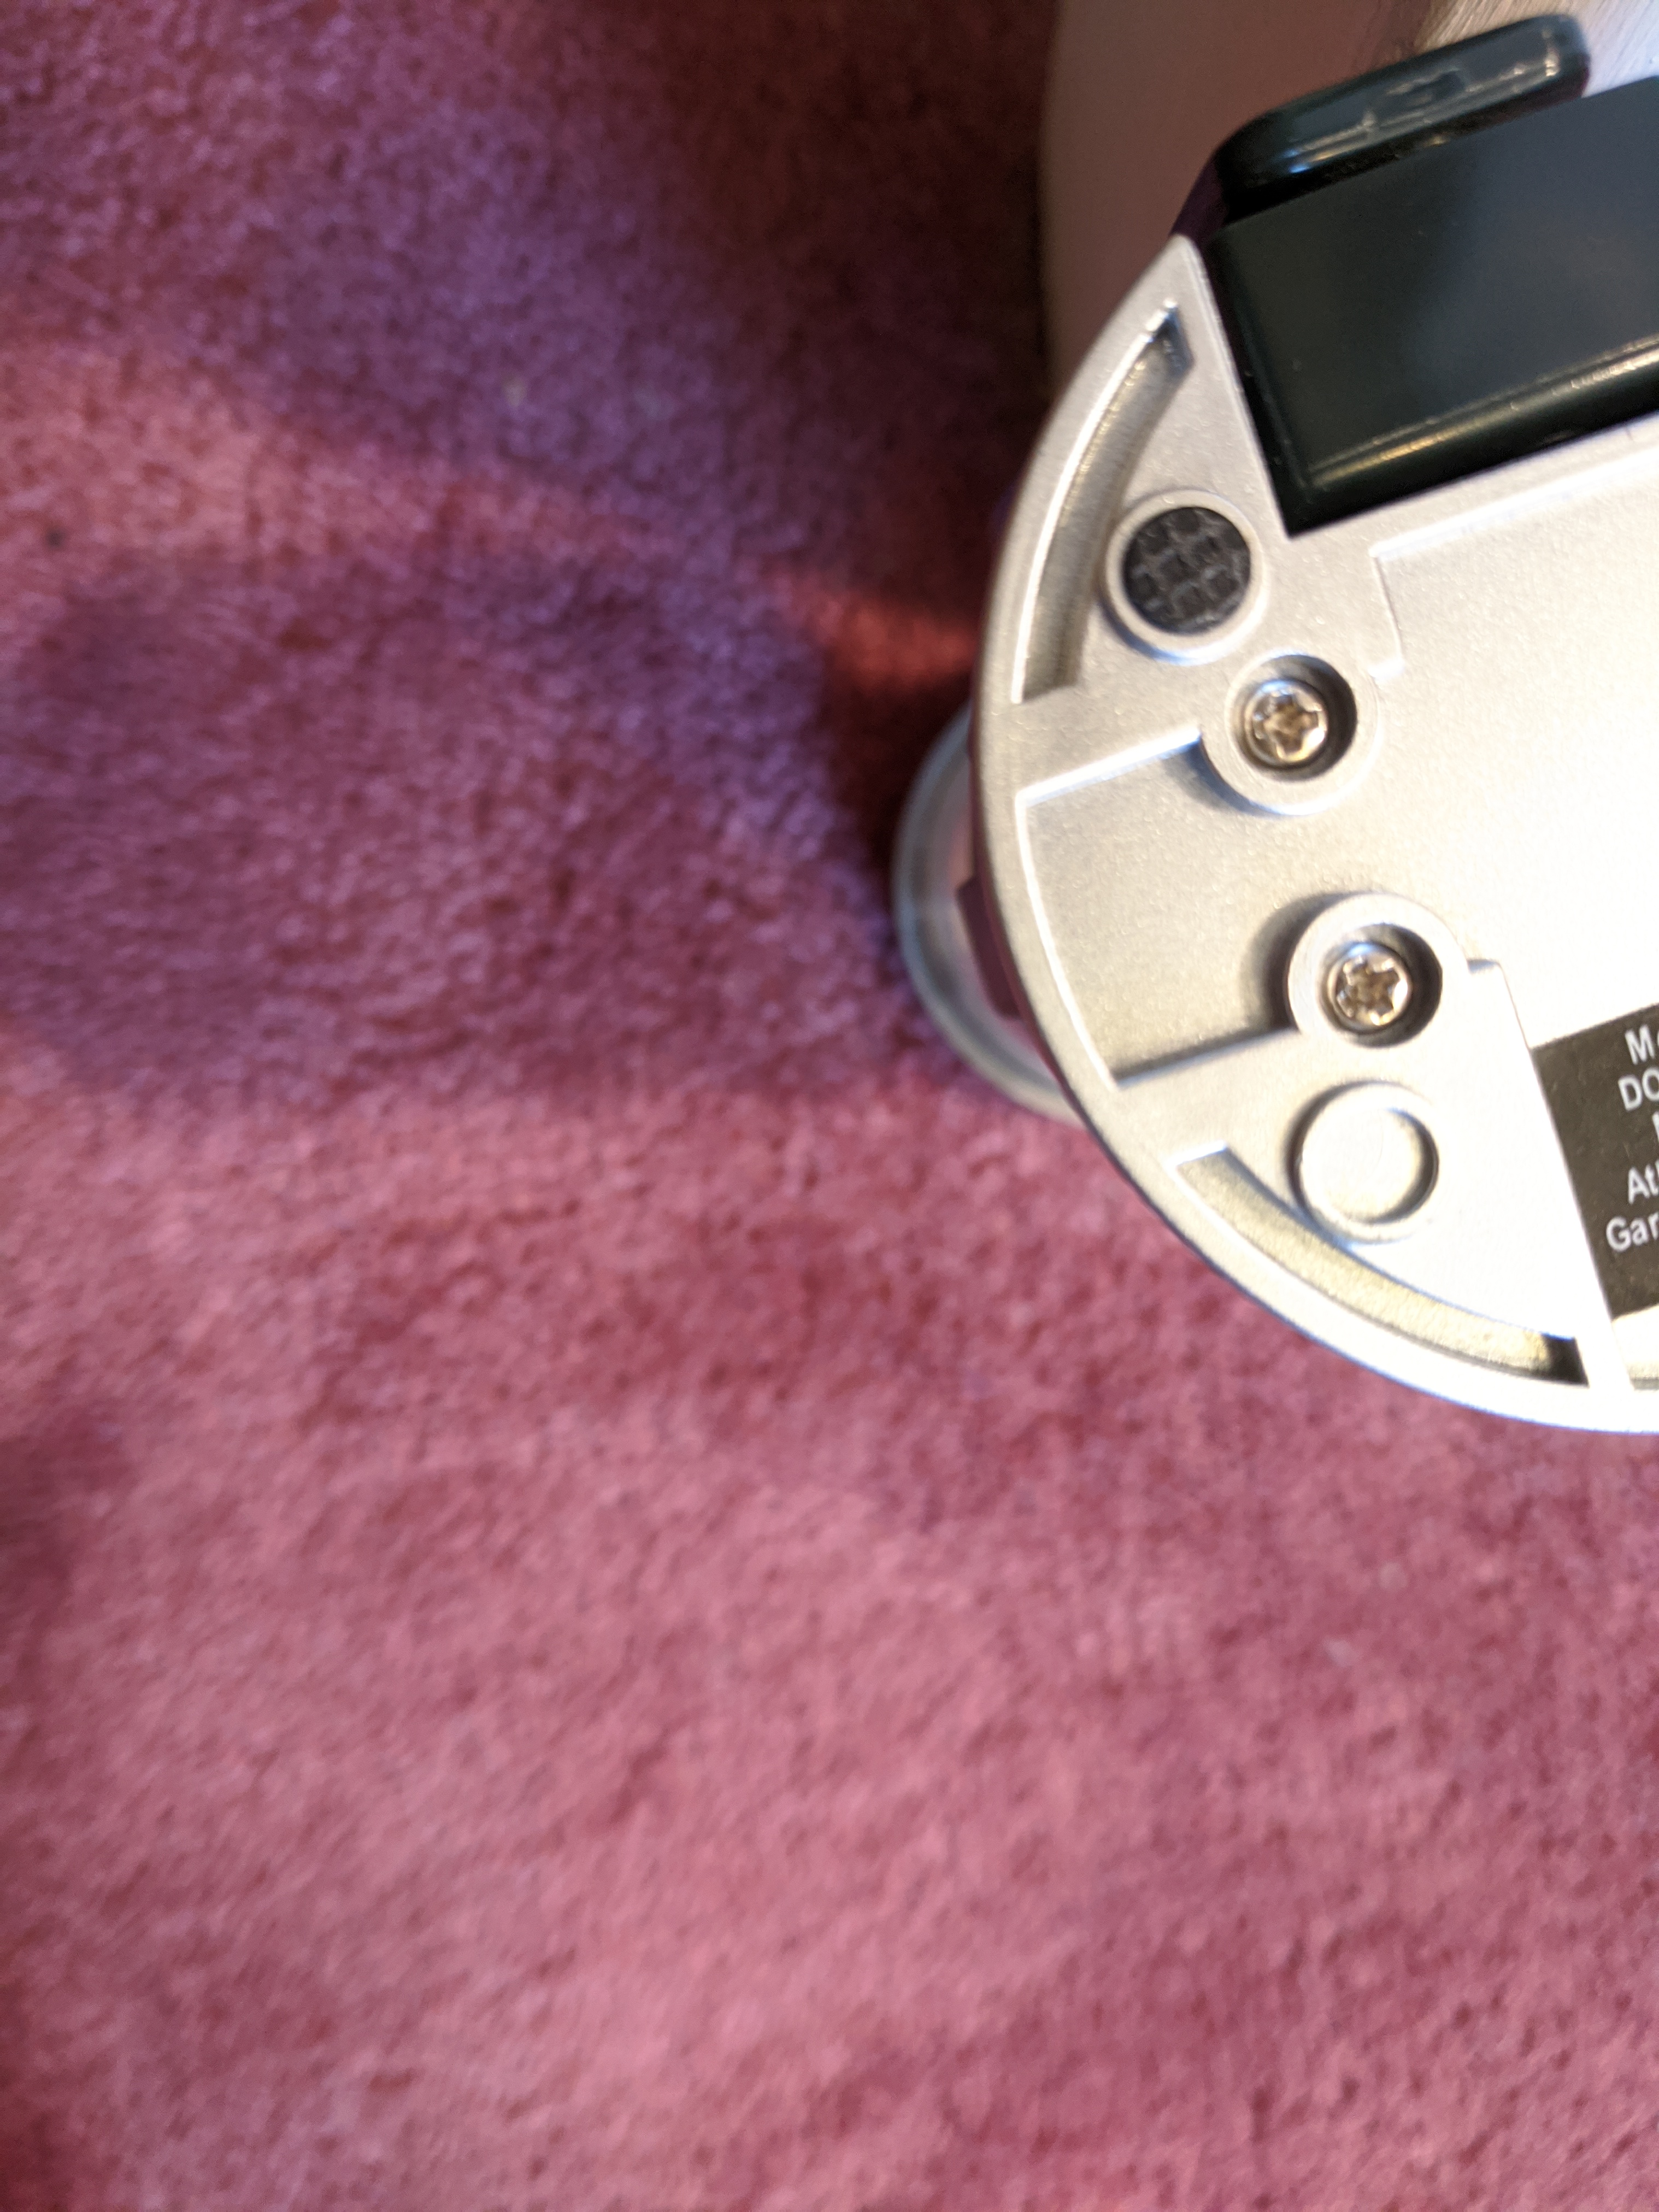cross_recessed_screw: (1237, 657, 1345, 773), (1319, 927, 1424, 1045)
